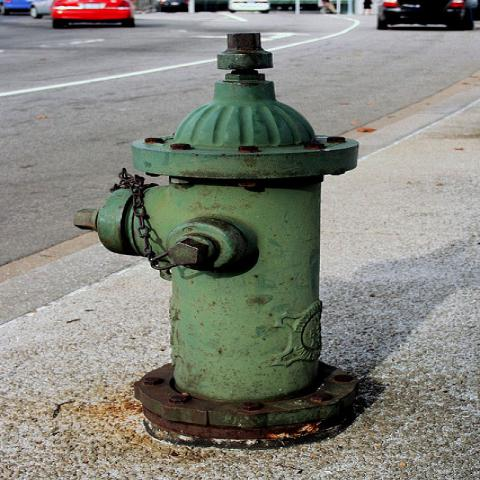car: (369, 0, 479, 31), (50, 0, 136, 29), (0, 0, 34, 16), (30, 0, 54, 19), (154, 0, 190, 12), (227, 0, 250, 12)
